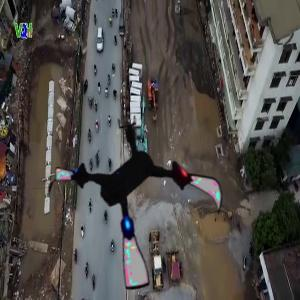drone: (47, 114, 228, 295)
